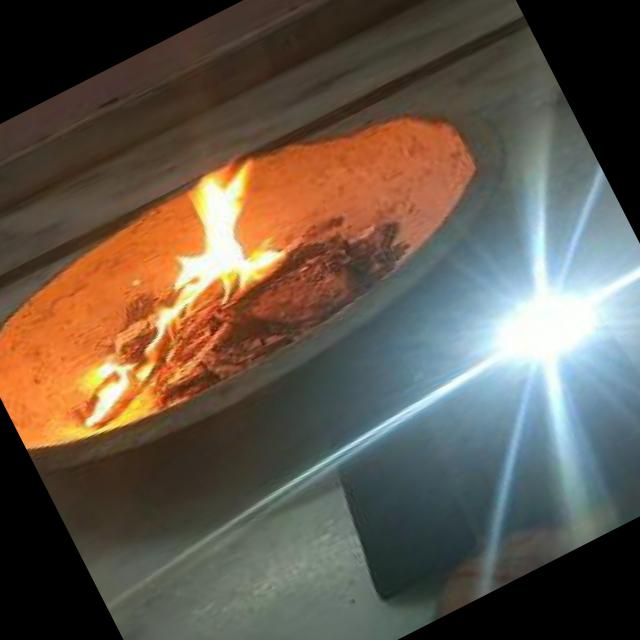fire: (8, 154, 336, 432)
